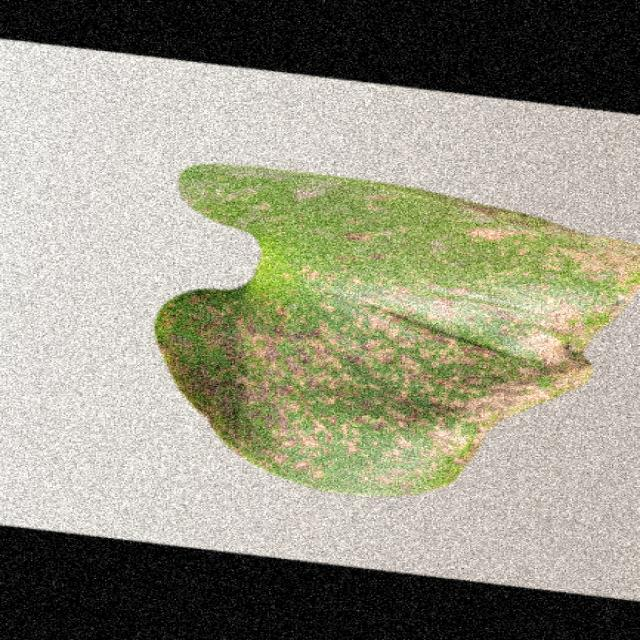daun berpenyakit bercak: (155, 166, 638, 496)
